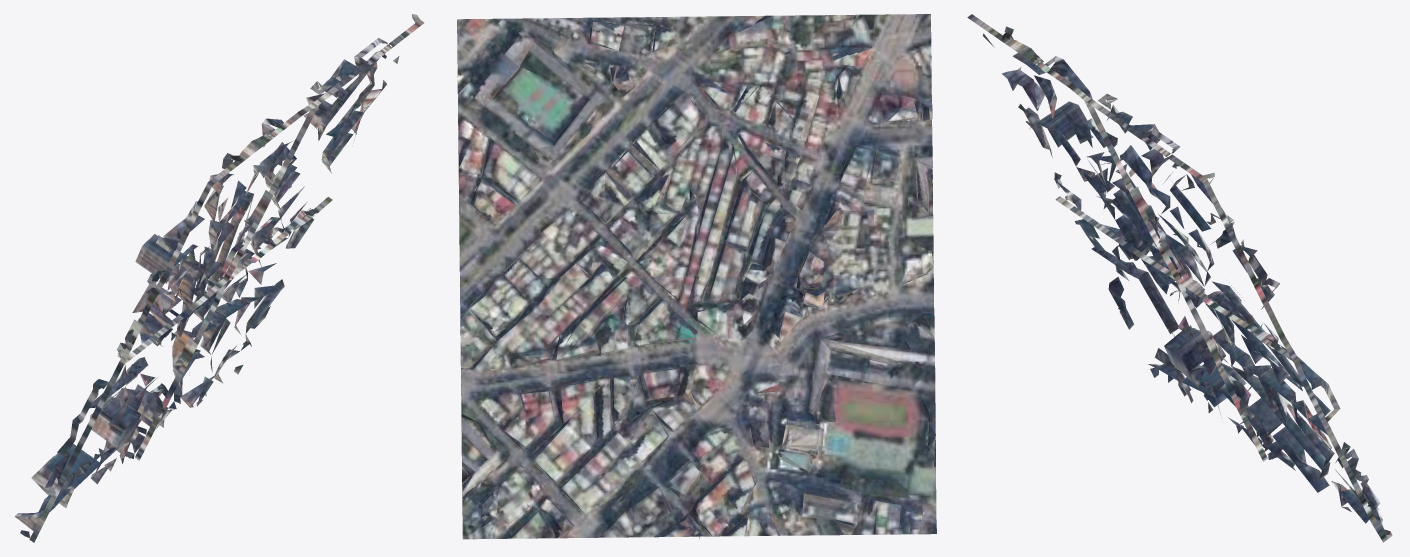
3 views of the same model, side by side, from view 1: azimuth 30°, elevation 25°; view 2: azimuth 150°, elevation 25°; view 3: azimuth 270°, elevation 25° (orthographic). The views are drawn at different scales.
Size of the model in its own units: 618 by 564 by 525.
Materials: 2 (2 with a texture image).
